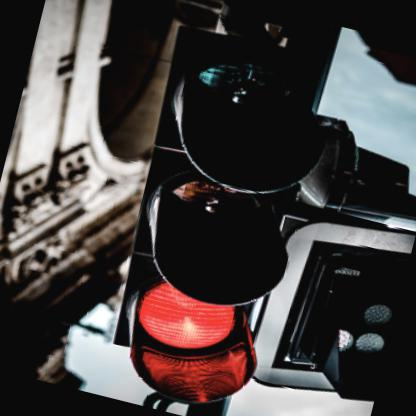trafficlight: (88, 23, 341, 415)
